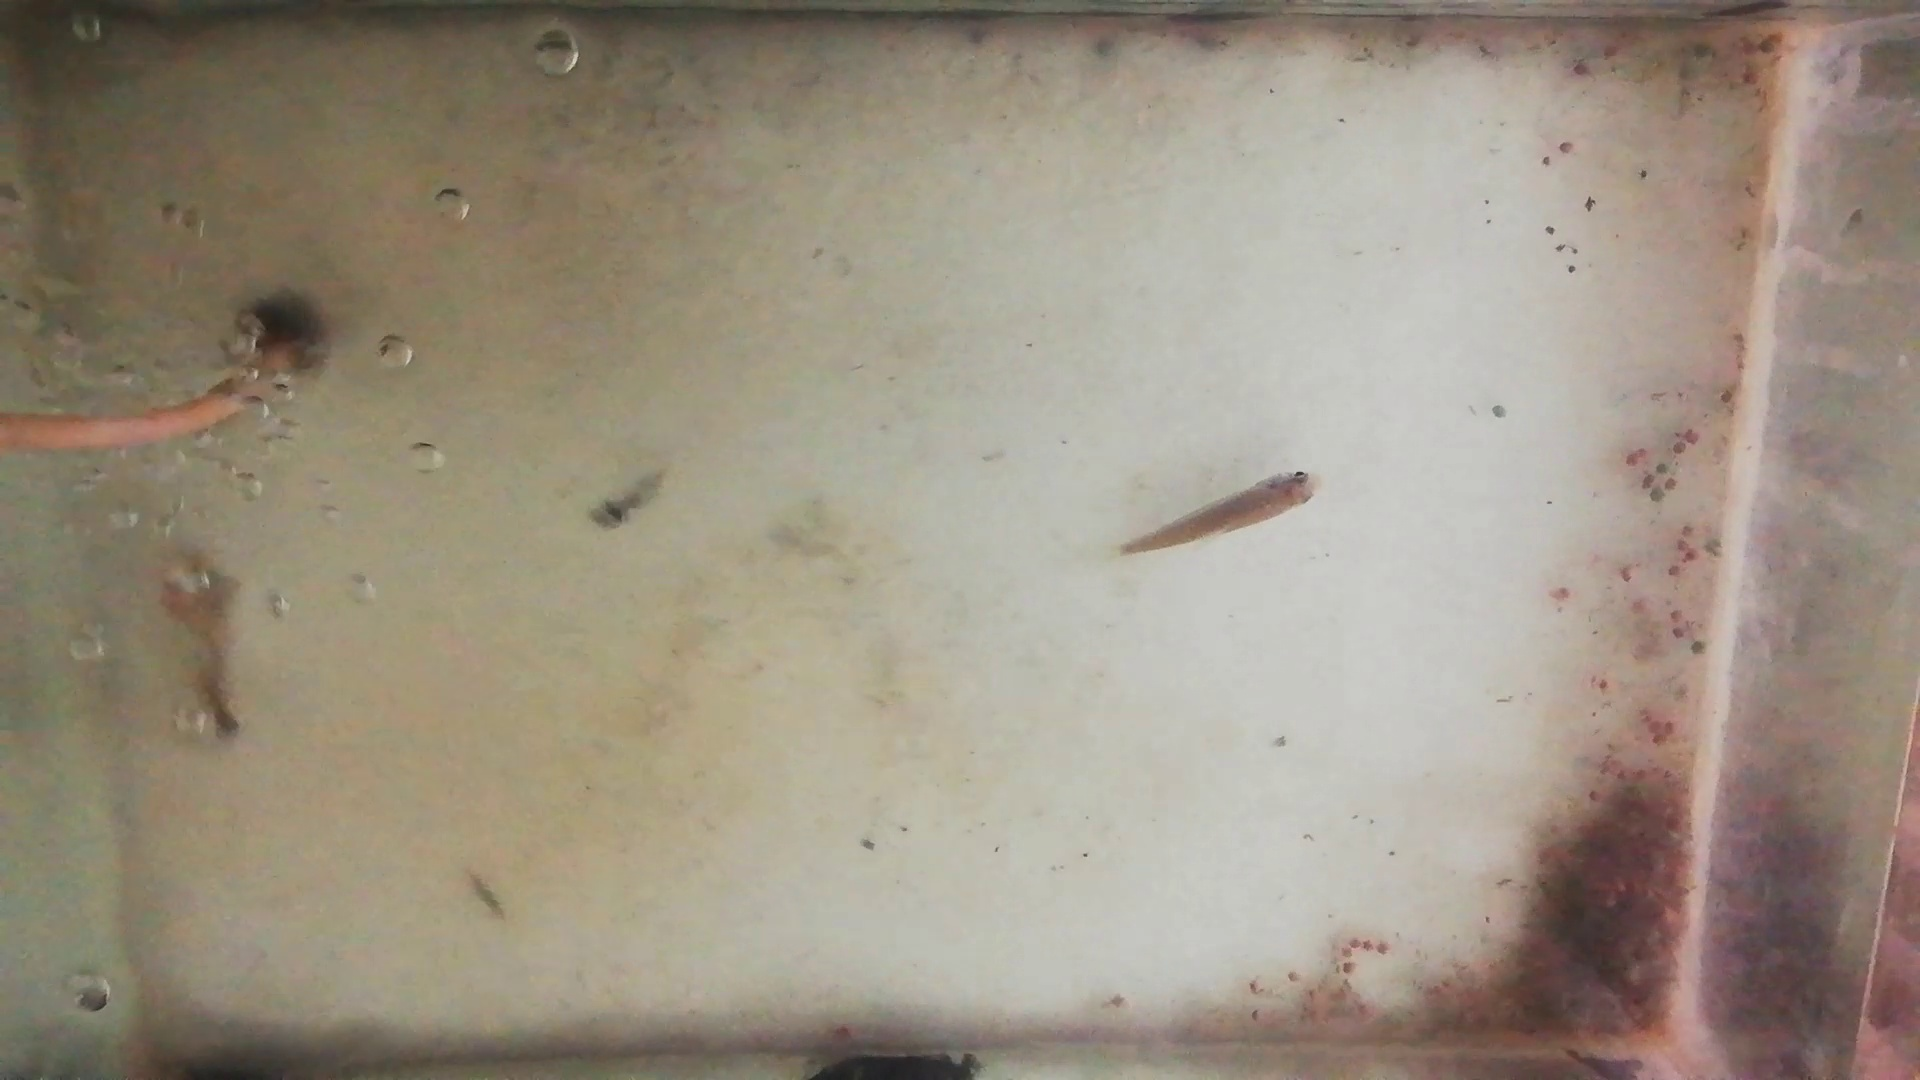fish: (1116, 473, 1327, 558), (169, 549, 237, 738)
